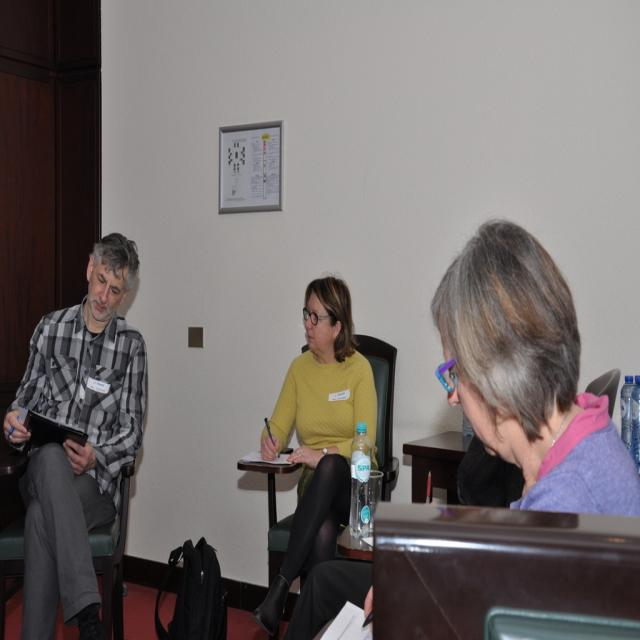chair: (1, 440, 140, 636)
desk: (402, 428, 467, 504)
person: (432, 219, 640, 513), (2, 230, 148, 637), (250, 276, 382, 627)
